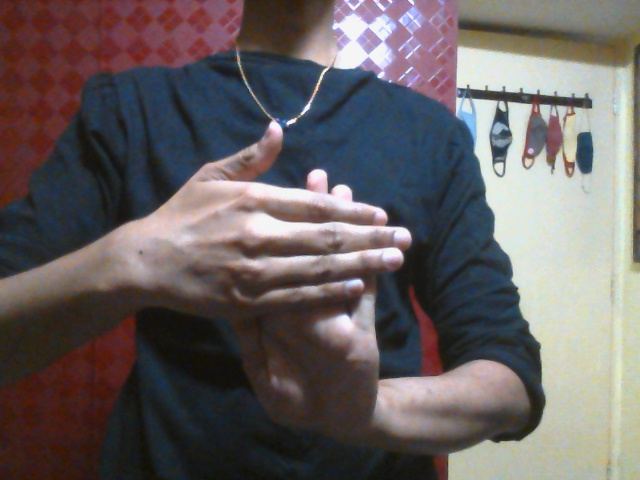H: (148, 120, 413, 438)
